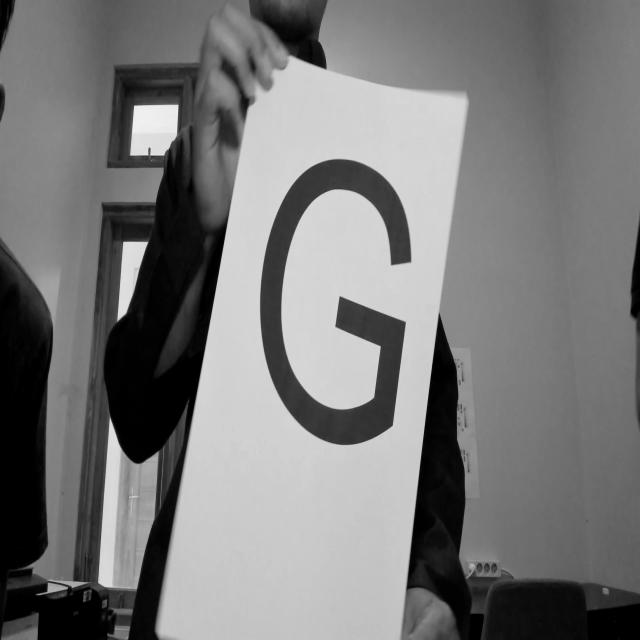g: (254, 150, 424, 463)
